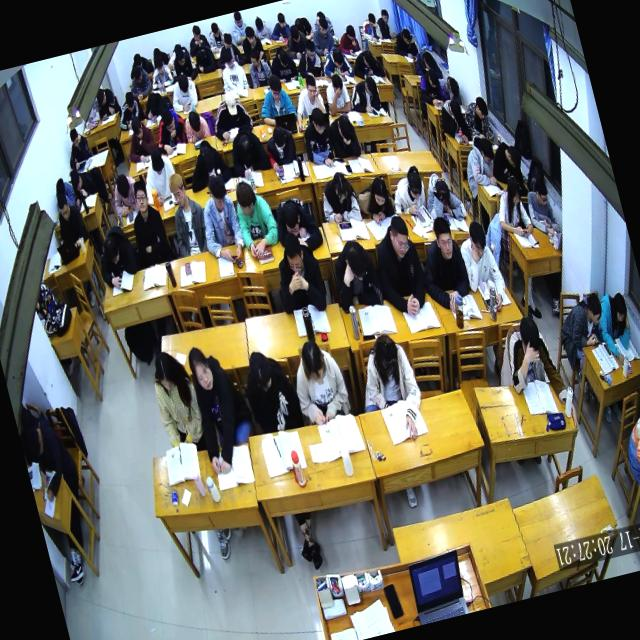bow: (89, 220, 144, 292), (268, 188, 324, 256), (179, 133, 234, 193), (418, 162, 468, 225), (223, 122, 273, 183), (352, 172, 399, 230), (485, 136, 527, 187), (317, 42, 356, 86), (349, 46, 386, 84), (411, 45, 444, 85), (180, 105, 212, 143), (50, 172, 77, 208), (139, 86, 168, 119), (191, 40, 219, 74), (92, 80, 120, 113), (292, 10, 316, 42)
down: (296, 336, 328, 384), (516, 313, 546, 362), (372, 331, 403, 378), (246, 348, 276, 396), (340, 238, 370, 284), (280, 228, 308, 276), (150, 348, 178, 394), (205, 172, 231, 214), (19, 419, 46, 459), (466, 218, 490, 262), (164, 167, 188, 207), (278, 200, 302, 238), (583, 290, 605, 328), (368, 174, 392, 208), (329, 170, 352, 203), (101, 235, 123, 267), (306, 102, 328, 134), (334, 112, 356, 144), (608, 290, 628, 324), (532, 175, 552, 208), (476, 134, 496, 167), (197, 143, 218, 174), (126, 110, 146, 142), (432, 174, 452, 206), (404, 168, 424, 200), (504, 175, 524, 207), (234, 131, 254, 162), (221, 86, 240, 118), (158, 104, 178, 134), (112, 169, 132, 199), (146, 146, 166, 176), (504, 140, 524, 170), (266, 72, 284, 104), (269, 122, 288, 150), (303, 72, 321, 101), (54, 192, 72, 220), (472, 94, 490, 122), (186, 108, 203, 134), (329, 72, 346, 98), (361, 74, 378, 100), (447, 96, 464, 122), (302, 34, 318, 60), (220, 46, 237, 70), (420, 46, 437, 70), (67, 166, 83, 191), (242, 23, 258, 48), (445, 73, 461, 97), (152, 53, 167, 77), (52, 175, 68, 197), (175, 71, 191, 93), (192, 46, 208, 68), (275, 46, 291, 68), (425, 66, 441, 88), (122, 88, 137, 111), (145, 90, 160, 113), (316, 14, 331, 37), (330, 44, 344, 68), (287, 22, 302, 44), (360, 46, 375, 68), (68, 126, 82, 148), (94, 86, 108, 108), (343, 20, 357, 42), (130, 62, 144, 83), (221, 30, 235, 51), (292, 15, 306, 34), (190, 23, 203, 43), (208, 19, 221, 39), (174, 46, 186, 66), (400, 26, 412, 46), (366, 10, 378, 30), (252, 14, 264, 33), (232, 11, 244, 28), (132, 51, 144, 66)
lookup: (184, 344, 217, 395), (384, 212, 414, 262), (429, 211, 458, 260), (130, 177, 152, 214), (379, 7, 391, 26)
sit: (181, 335, 263, 477), (347, 325, 431, 451), (488, 308, 570, 416), (362, 206, 434, 324), (144, 343, 210, 458), (408, 210, 476, 318), (282, 334, 354, 431), (235, 342, 305, 439), (17, 408, 82, 506), (264, 224, 330, 319), (188, 168, 248, 268), (453, 215, 511, 316), (118, 172, 176, 272), (323, 232, 386, 317), (226, 171, 284, 261), (158, 164, 213, 256), (550, 288, 612, 356), (591, 284, 640, 366), (295, 100, 340, 173), (314, 164, 364, 229), (132, 144, 182, 206), (488, 172, 534, 239), (203, 86, 256, 144), (456, 129, 501, 192), (251, 69, 299, 128), (520, 170, 562, 237), (48, 190, 90, 253), (286, 72, 330, 132), (386, 165, 432, 222), (148, 101, 191, 158), (258, 118, 300, 172), (119, 110, 159, 166), (323, 109, 363, 164), (613, 399, 640, 480), (105, 165, 144, 218), (459, 94, 496, 146), (436, 92, 472, 145), (290, 30, 326, 80), (212, 41, 248, 90), (276, 9, 312, 58), (344, 74, 384, 118), (320, 70, 354, 120), (164, 71, 202, 115), (414, 64, 448, 112), (60, 122, 93, 170), (242, 44, 276, 90), (164, 40, 200, 82), (236, 21, 268, 68), (66, 164, 100, 208), (112, 86, 146, 130), (211, 28, 245, 72), (305, 12, 337, 58), (266, 41, 299, 82), (144, 50, 174, 90), (124, 61, 154, 100), (356, 6, 384, 46), (436, 69, 464, 108), (183, 21, 212, 58), (392, 26, 421, 61), (334, 19, 362, 55), (203, 18, 230, 54), (226, 9, 252, 46), (265, 11, 293, 44), (373, 6, 396, 42), (249, 10, 273, 40)
